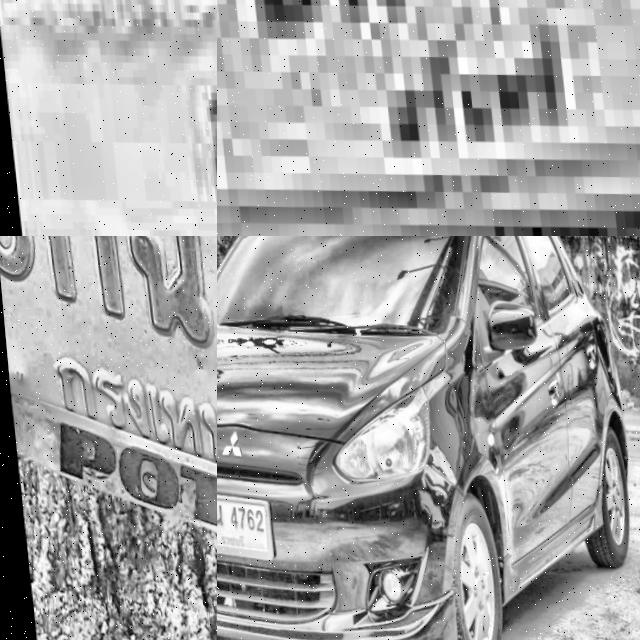license-plate: (217, 0, 640, 236), (0, 236, 217, 640), (0, 0, 217, 236), (217, 485, 268, 562)
